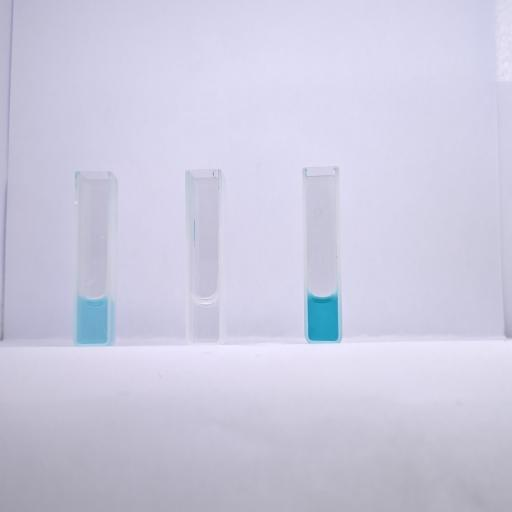cuvette: (71, 168, 115, 348), (300, 164, 344, 344), (183, 167, 225, 347)
liquid: (77, 296, 108, 343), (308, 294, 338, 341), (191, 296, 219, 342)
